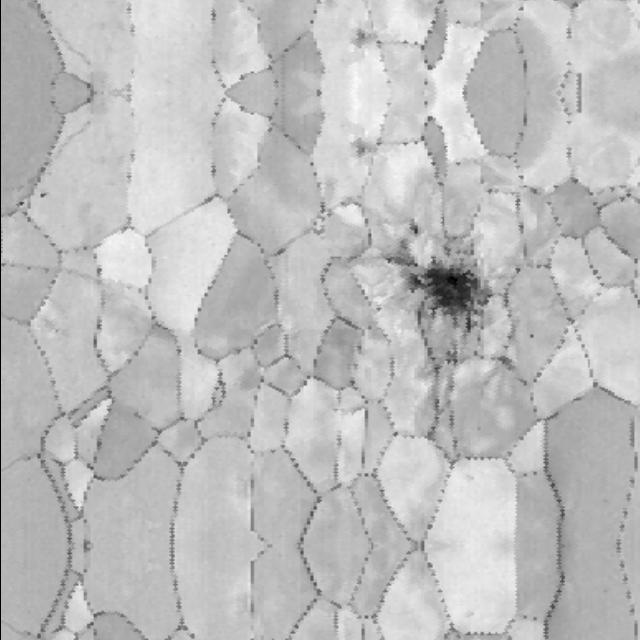good_void: (381, 213, 505, 341), (339, 23, 375, 53), (339, 135, 375, 164), (34, 189, 50, 202), (451, 159, 463, 172), (451, 16, 463, 29), (14, 198, 25, 208)
